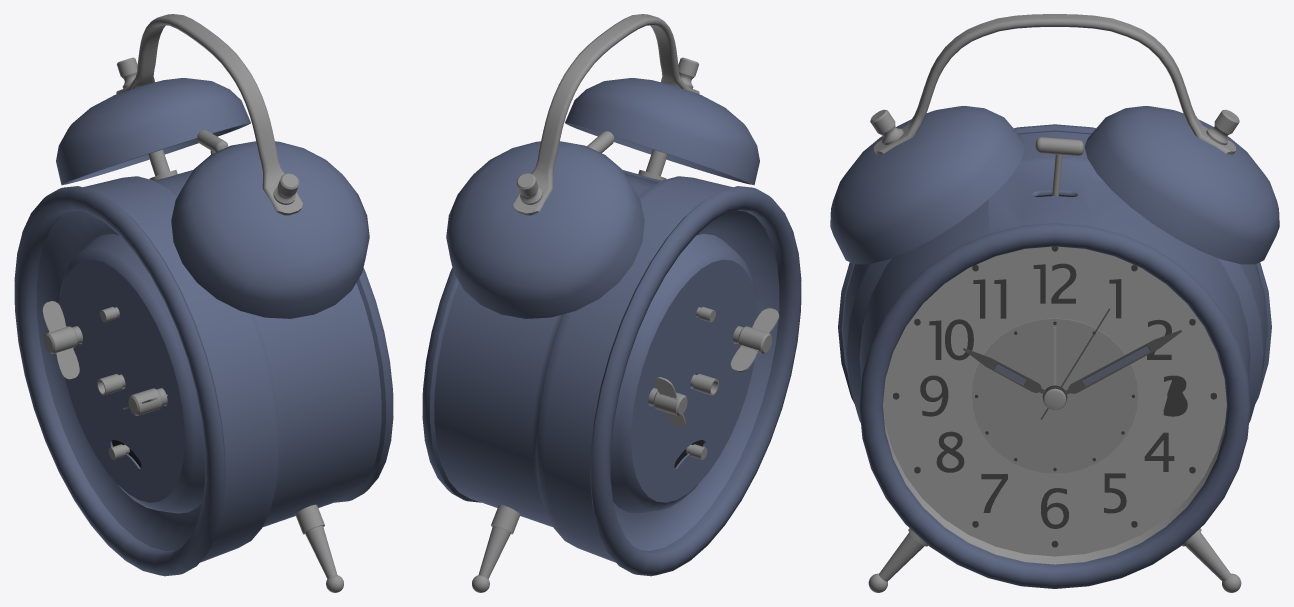
File: clock.fbx
3 views of the same model, side by side, from view 1: azimuth 30°, elevation 25°; view 2: azimuth 150°, elevation 25°; view 3: azimuth 270°, elevation 25° (orthographic). The views are drawn at different scales.
Visible parts, largest first — view 1: polySurface308; view 2: polySurface308; view 3: polySurface308.
Boxes of the visible parts, left/top/right/bottom form: polySurface308: left=14, top=14, right=393, bottom=592; polySurface308: left=422, top=14, right=801, bottom=592; polySurface308: left=830, top=14, right=1279, bottom=592.
Bounding box in the file's own units: 1.37 × 2.99 × 2.22.
